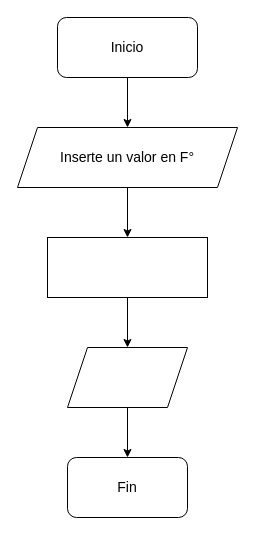
Some shapes in this 255 by 535 pixel diagram are drawn without their labels. The shapes that lost their labels are listed below. From the top down, each one's centre as x and y in pixels, then its label:
[127,267]: celsius = (n - 32) * 5 / 9
[127,377]: celsius
